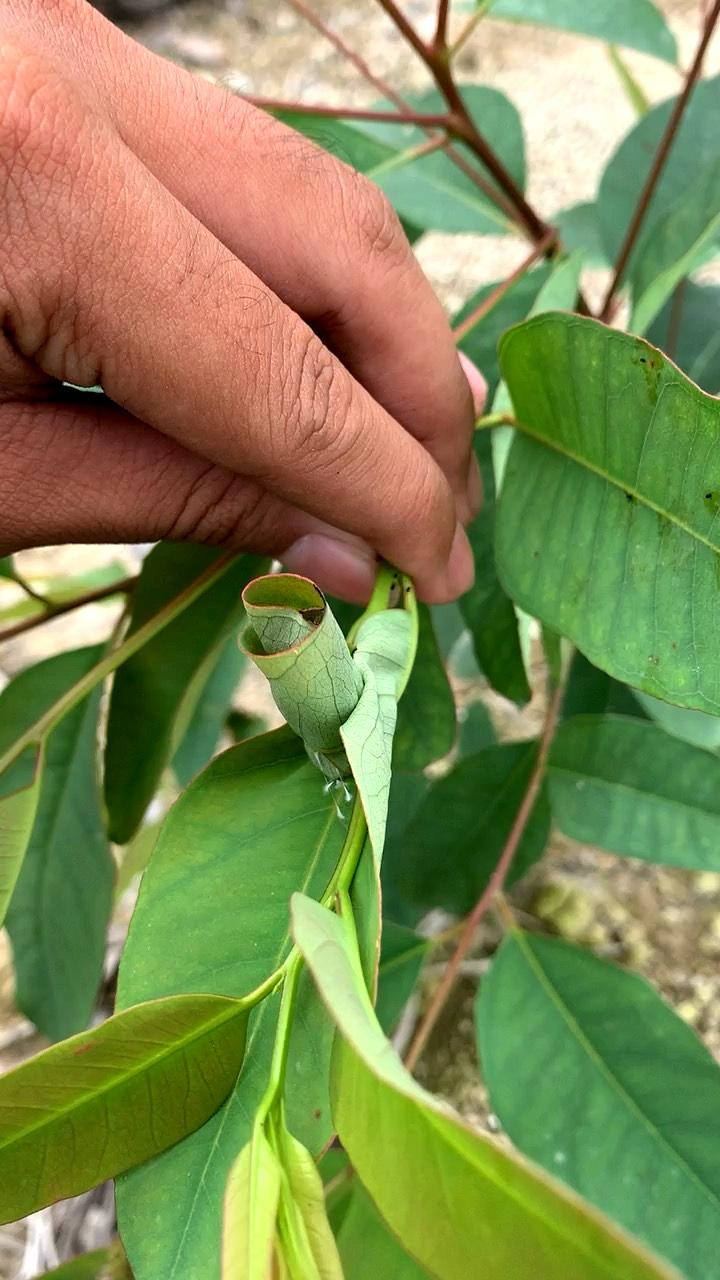Leaf Roller - Leaf: (228, 560, 417, 822)
